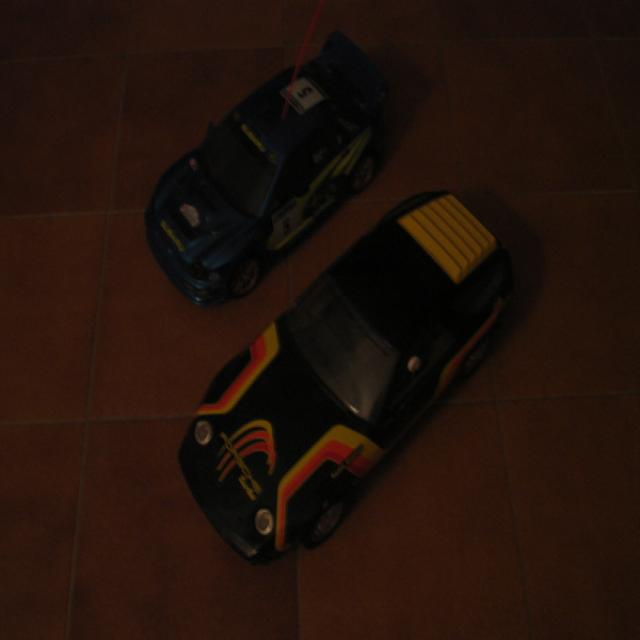Car: (176, 202, 508, 567), (146, 31, 392, 312)
